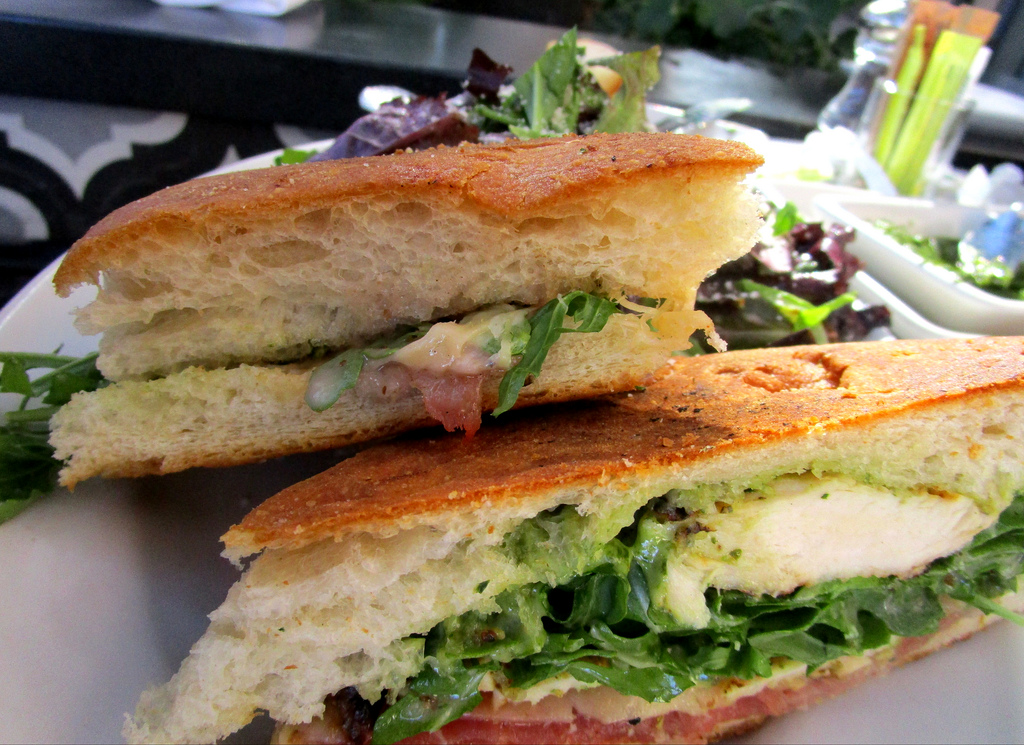slice of bread: (286, 490, 1024, 666), (65, 215, 704, 390)
